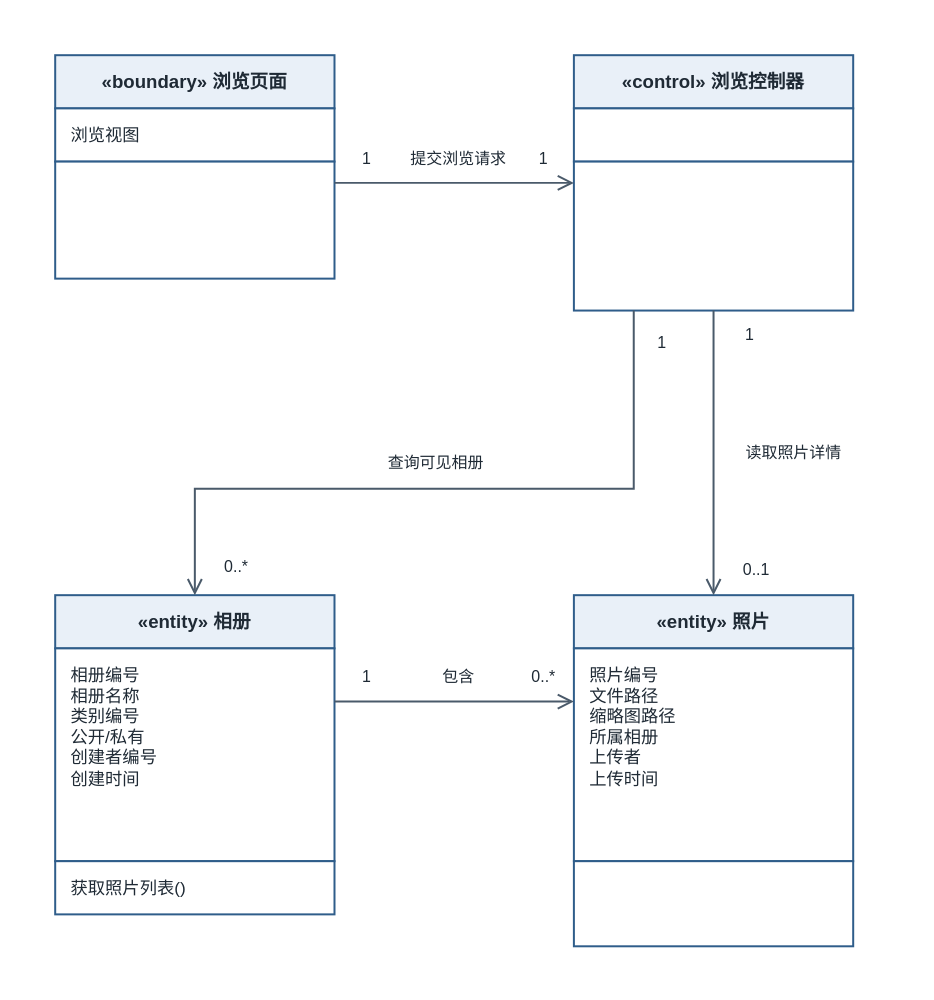
Image size: 934x1000. Some labels were removed from this diagram. Each missing label, with the box of its shape:
保存() 获取详情(): (572, 860, 854, 947)
显示相册列表() 显示缩略图网格() 显示照片大图与信息(): (54, 160, 335, 279)
获取可见相册列表() 校验相册访问权限() 获取相册照片列表() 获取照片详情(): (572, 160, 854, 311)
